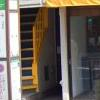stairs: (20, 9, 46, 90)
